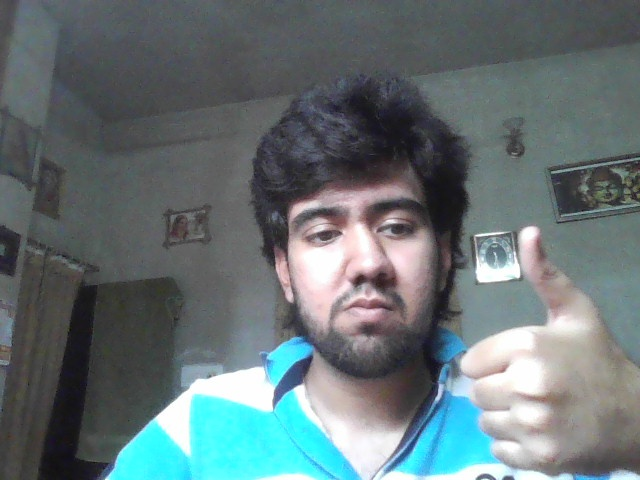Ok: (461, 226, 629, 474)
